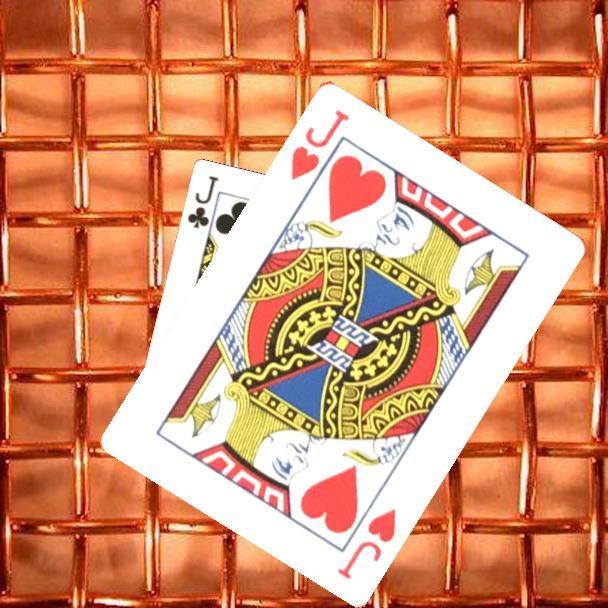c11: (184, 172, 222, 232)
h11: (287, 105, 353, 183), (333, 504, 399, 582)
